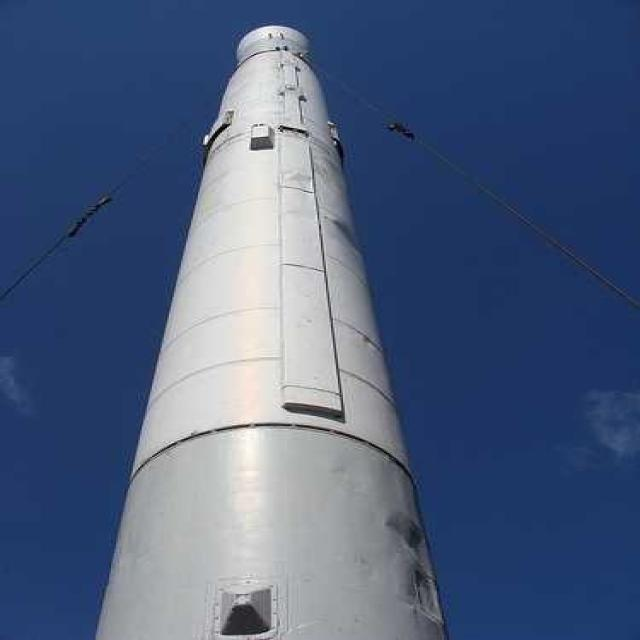missile: (102, 20, 439, 640)
